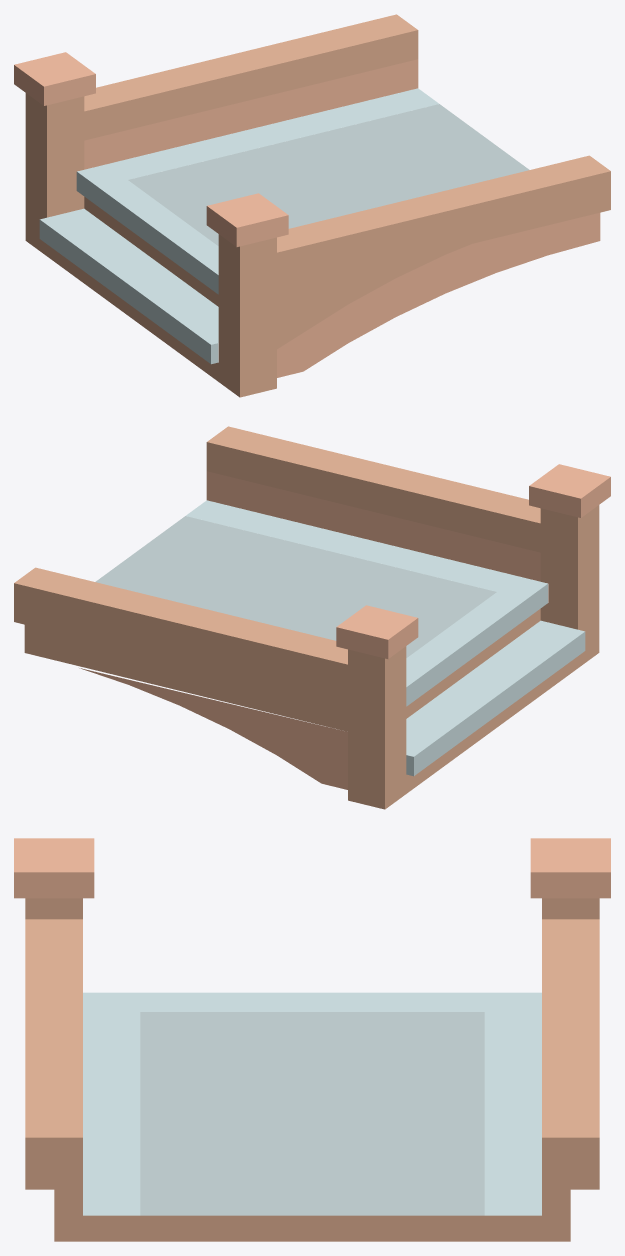
The model's file is bridge_side_woodRound.glb.
3 renders of one model, top to bottom at view 1: azimuth 30°, elevation 25°; view 2: azimuth 150°, elevation 25°; view 3: azimuth 270°, elevation 25°, orthographic. The views are drawn at different scales.
Parts seen in each view (by area): view 1: bridge_side_woodRound; view 2: bridge_side_woodRound; view 3: bridge_side_woodRound.
Boxes of the visible parts, box(x1,y1,x2,y2) form: bridge_side_woodRound: box(14, 14, 610, 397); bridge_side_woodRound: box(14, 426, 610, 809); bridge_side_woodRound: box(14, 838, 610, 1241).
Bounding box in the file's own units: 1.02 × 0.4499 × 1.04.
